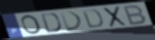B: (122, 4, 148, 26)
D: (59, 10, 84, 32), (41, 12, 63, 34), (81, 9, 104, 30)
O: (20, 14, 43, 35)
X: (102, 5, 128, 29)
